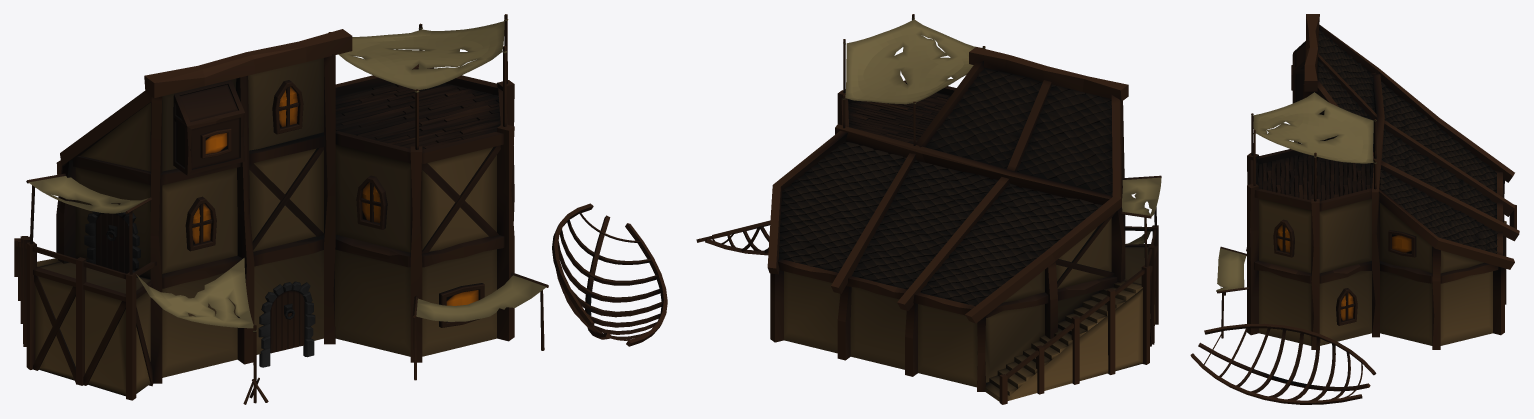
The model's file is Boat_Store.fbx.
The picture shows the model from 3 angles, left to right: view 1: azimuth 30°, elevation 25°; view 2: azimuth 150°, elevation 25°; view 3: azimuth 270°, elevation 25°; orthographic projection. The views are drawn at different scales.
Visible parts, largest first — view 1: BoatStore, Cloths, Boat; view 2: BoatStore, Cloths, Boat; view 3: BoatStore, Cloths, Boat.
Part boxes in pixels (box(x1,y1,x2,y2)): BoatStore: box(14, 14, 548, 404); Cloths: box(28, 21, 546, 328); Boat: box(552, 203, 667, 346); BoatStore: box(767, 14, 1161, 404); Cloths: box(845, 19, 1161, 244); Boat: box(696, 220, 770, 255); BoatStore: box(1217, 14, 1519, 349); Cloths: box(1216, 92, 1373, 291); Boat: box(1190, 323, 1376, 404).
Bounding box in the file's own units: 375 × 199 × 258.
